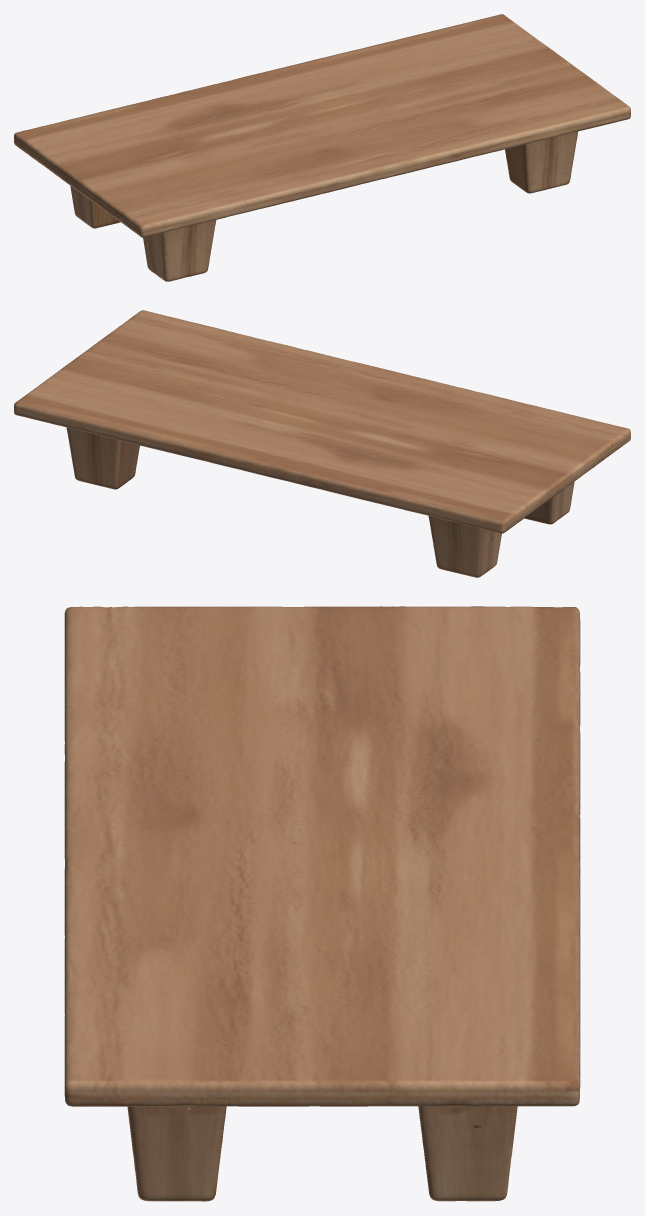
The model's file is Meshy_AI_Minimalist_Wooden_Pla_0310040258_texture.glb.
3 renders of one model, top to bottom at view 1: azimuth 30°, elevation 25°; view 2: azimuth 150°, elevation 25°; view 3: azimuth 270°, elevation 25°, orthographic. The views are drawn at different scales.
Size of the model in its own units: 1.91 by 0.3062 by 0.8701.
1 material, 1 textured.
